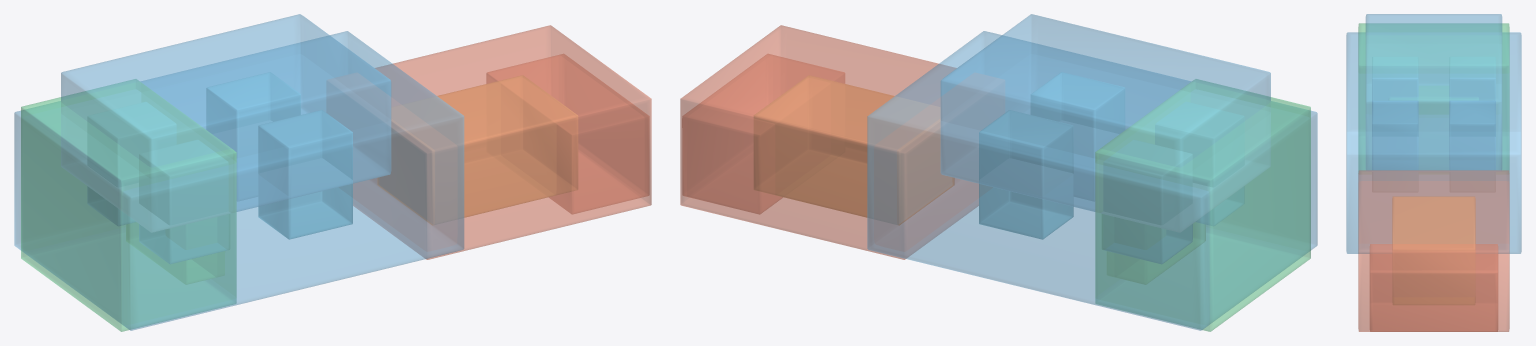
Rendered from envelopes.glb.
3 views of the same model, side by side, from view 1: azimuth 30°, elevation 25°; view 2: azimuth 150°, elevation 25°; view 3: azimuth 270°, elevation 25° (orthographic). The views are drawn at different scales.
Parts seen in each view (by area): view 1: CABIN_ENVELOPE, ENGINE_BAY, CARGO_ENVELOPE, ENGINE_BAY_CORE, OCCUPANT_SPACE_-0.3784, OCCUPANT_SPACE_0.3784; view 2: CABIN_ENVELOPE, ENGINE_BAY, CARGO_ENVELOPE, ENGINE_BAY_CORE, OCCUPANT_SPACE_0.3784, OCCUPANT_SPACE_-0.3784; view 3: CABIN_ENVELOPE, ENGINE_BAY, CARGO_ENVELOPE, ENGINE_BAY_CORE, OCCUPANT_SPACE_0.3784, OCCUPANT_SPACE_-0.3784.
Boxes of the visible parts, x1,y1,x2,y2 form: CABIN_ENVELOPE: (14,14,464,330); ENGINE_BAY: (353,25,651,259); CARGO_ENVELOPE: (21,79,236,331); ENGINE_BAY_CORE: (377,75,578,225); OCCUPANT_SPACE_-0.3784: (139,110,352,263); OCCUPANT_SPACE_0.3784: (87,72,300,225); CABIN_ENVELOPE: (867,14,1317,330); ENGINE_BAY: (680,25,978,259); CARGO_ENVELOPE: (1095,79,1310,331); ENGINE_BAY_CORE: (753,75,954,225); OCCUPANT_SPACE_0.3784: (979,110,1192,263); OCCUPANT_SPACE_-0.3784: (1031,72,1244,225); CABIN_ENVELOPE: (1346,14,1521,253); ENGINE_BAY: (1358,170,1509,331); CARGO_ENVELOPE: (1358,23,1509,170); ENGINE_BAY_CORE: (1392,196,1475,304); OCCUPANT_SPACE_0.3784: (1449,57,1495,169); OCCUPANT_SPACE_-0.3784: (1372,57,1418,169).
Size of the model in its own units: 4.53 by 1.49 by 1.72.
